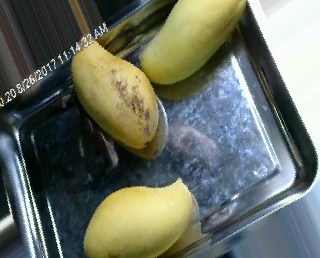Mango: (72, 38, 157, 151), (80, 180, 195, 258), (141, 0, 248, 83)
